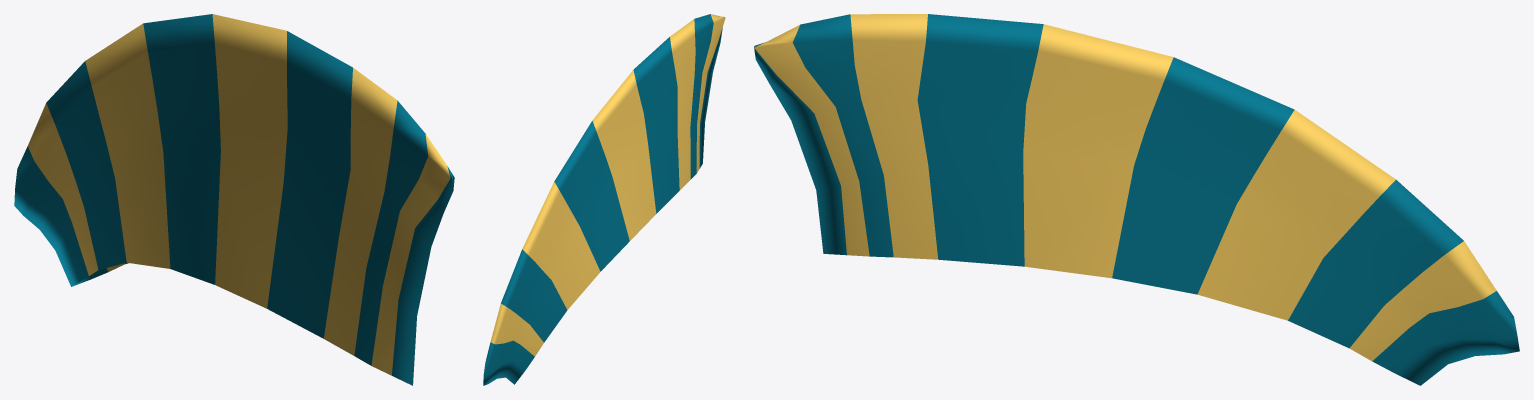
The model's file is Ears_AcuaticFin.glb.
The picture shows the model from 3 angles, left to right: view 1: azimuth 30°, elevation 25°; view 2: azimuth 150°, elevation 25°; view 3: azimuth 270°, elevation 25°; orthographic projection. The views are drawn at different scales.
Parts seen in each view (by area): view 1: Ears_AcuaticFin; view 2: Ears_AcuaticFin; view 3: Ears_AcuaticFin.
Boxes of the visible parts, x1=… form: Ears_AcuaticFin: x1=14, y1=14, x2=454, y2=385; Ears_AcuaticFin: x1=483, y1=14, x2=725, y2=385; Ears_AcuaticFin: x1=754, y1=14, x2=1519, y2=385.
Bounding box in the file's own units: 0.0735 × 0.4571 × 0.8529.
Materials: 1 (1 with a texture image).
